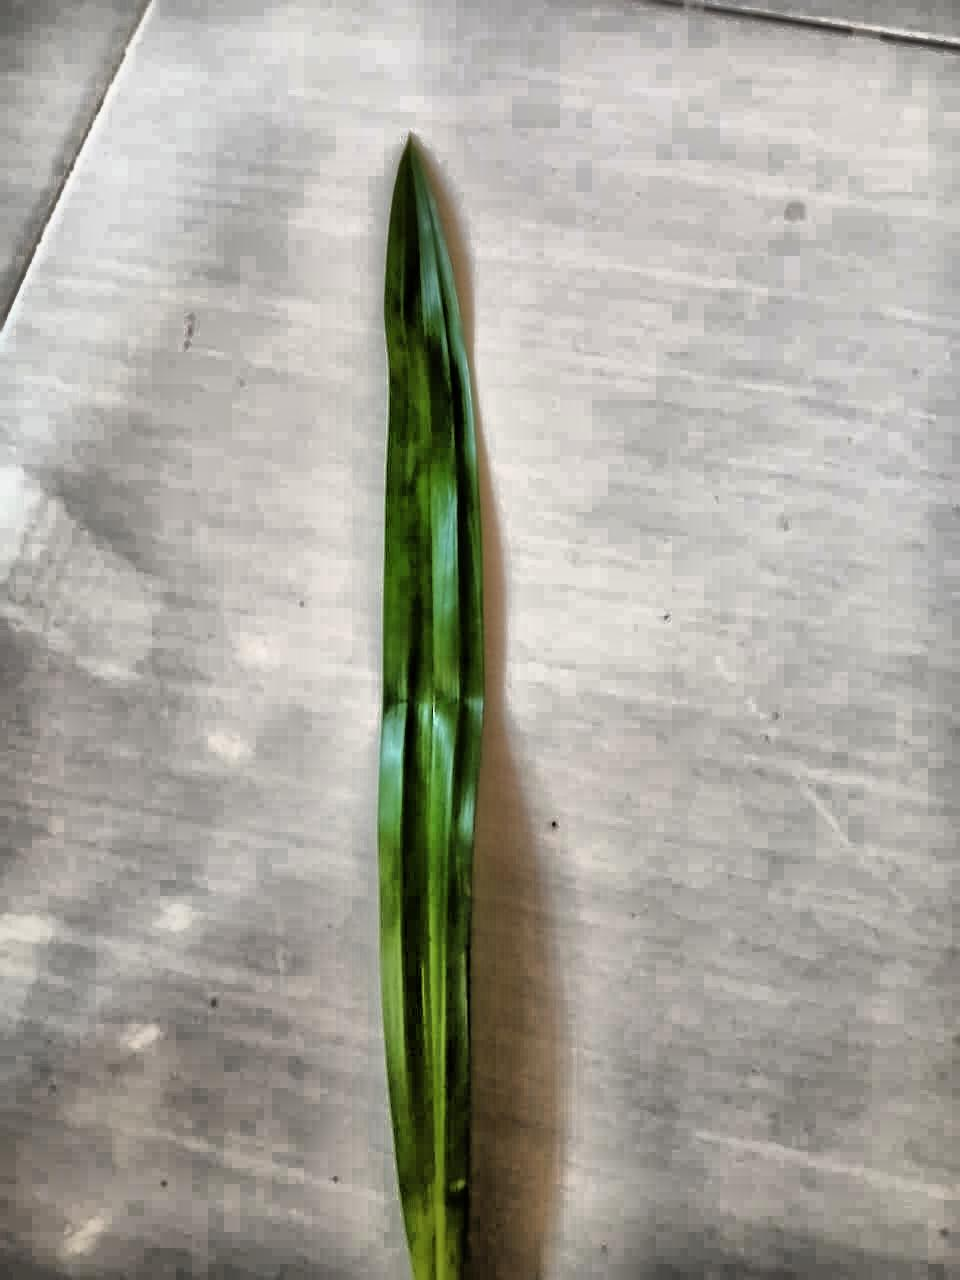daun pandan: (377, 137, 484, 1279)
